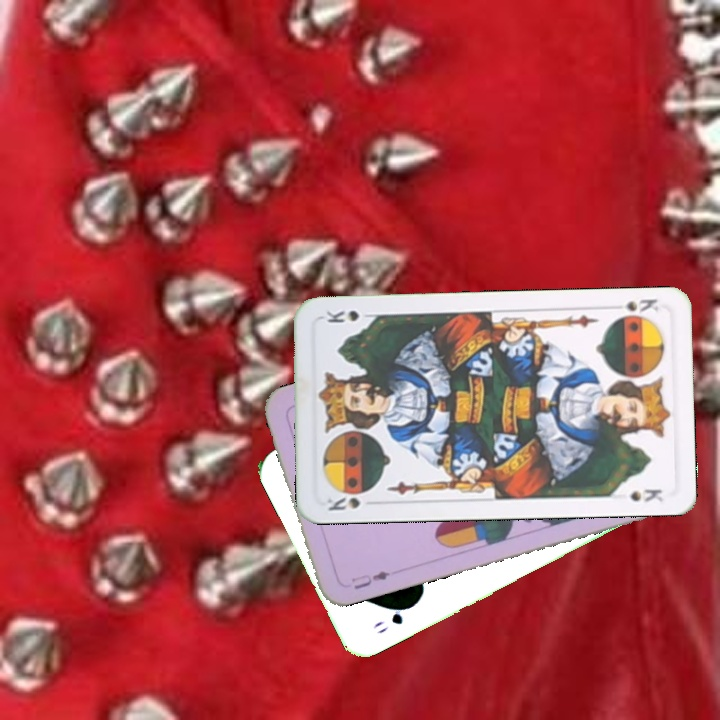EU: (347, 566, 393, 592)
GO: (368, 600, 417, 636)
SK: (606, 294, 661, 322), (323, 493, 380, 513)
